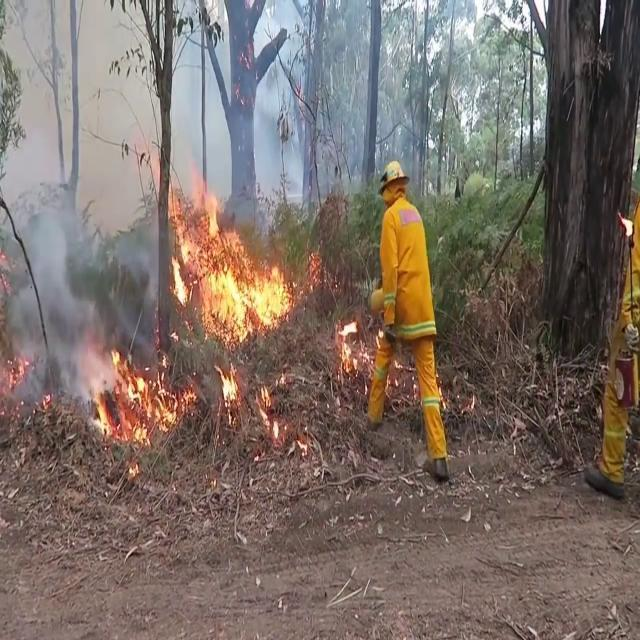Fire: (162, 178, 292, 382), (85, 338, 181, 446), (335, 310, 363, 381)
Smoke: (0, 66, 108, 423)
